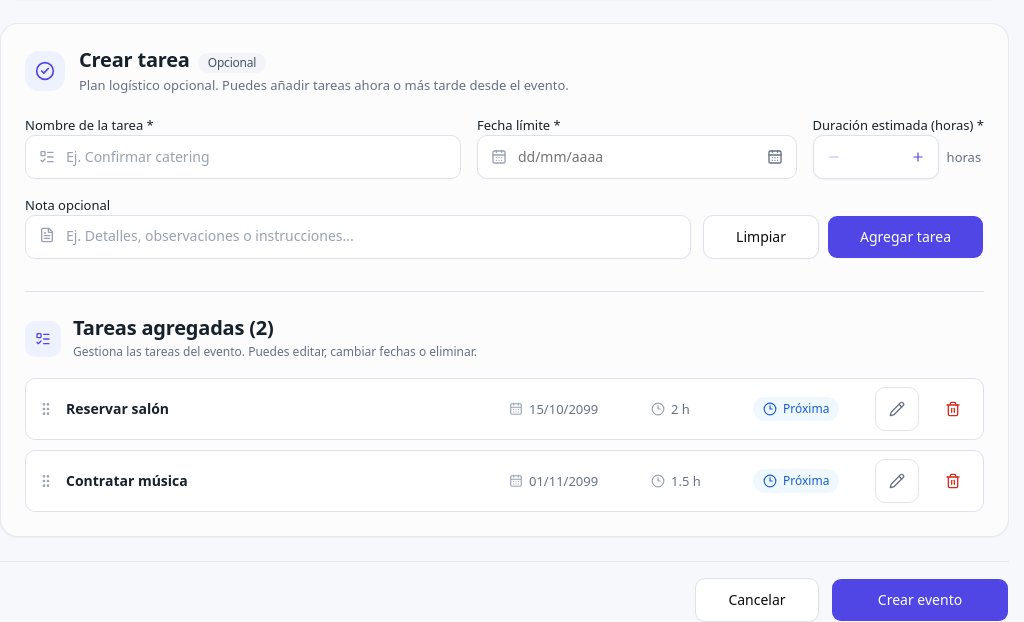
it: EventForm › edita, elimina y reinicia subtareas existentes
(page scrolled)
Click the button named "Editar Reservar salón".
click(897, 408)  # box [875,386,919,430]
(page scrolled)
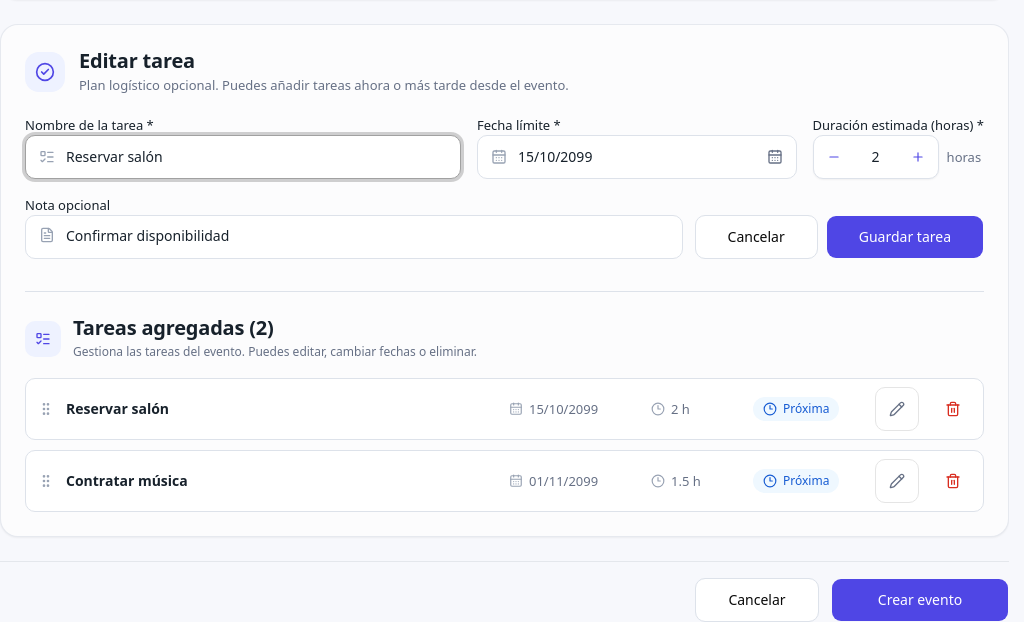
Check: the heading "Editar tarea" is shown, box [79,46,195,74]
Check: the field labelled "Nombre de la tarea *" holds "Reservar salón"
Replace the text in the field labelled "Nombre de la tarea *" with "Reservar finca" at x=243, y=156, box [25,134,461,178]
Click the button "Guardar tarea".
click(905, 236)  # box [826,214,984,258]
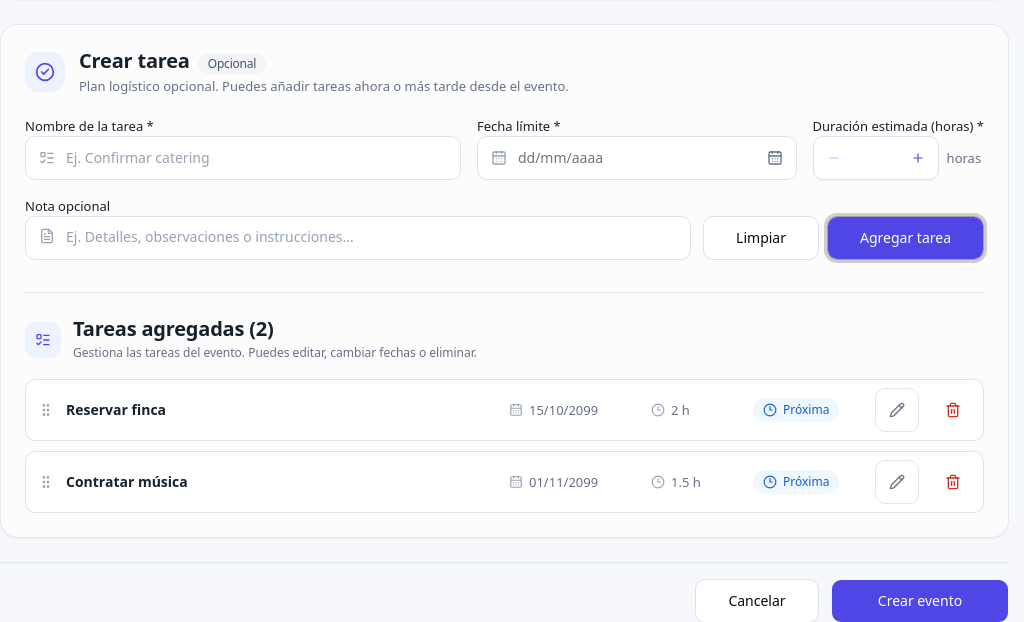
Check: the text "Reservar finca" is shown, box [66,400,166,418]
Check: the text "Reservar salón" is gone
Click the button named "Editar Reservar finca".
click(897, 410)  # box [875,388,919,432]
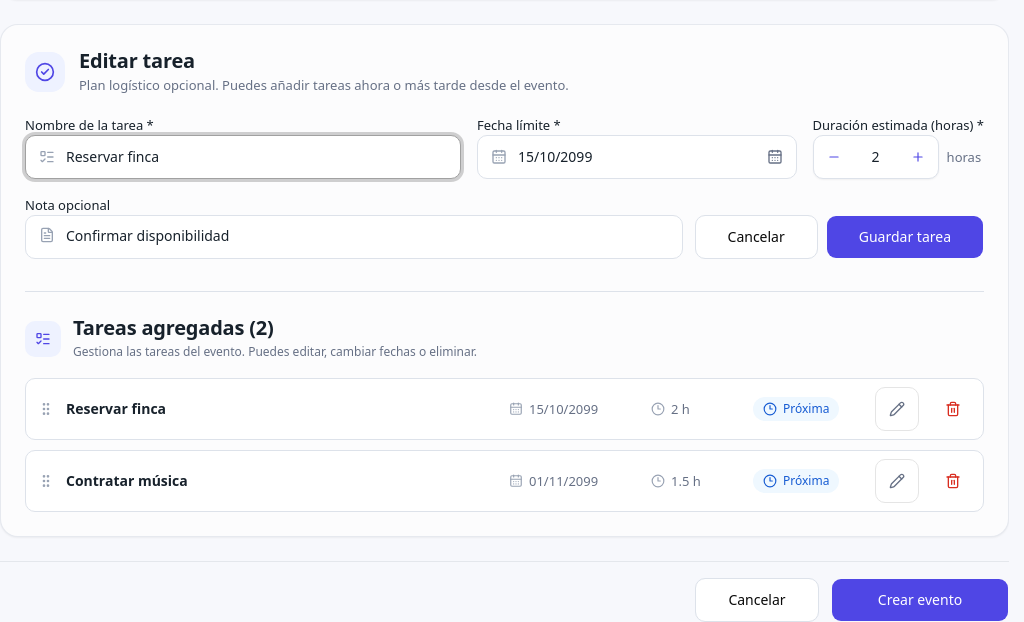
Click the button named "Eliminar Reservar finca".
click(953, 408)  # box [931,386,975,430]
(page scrolled)
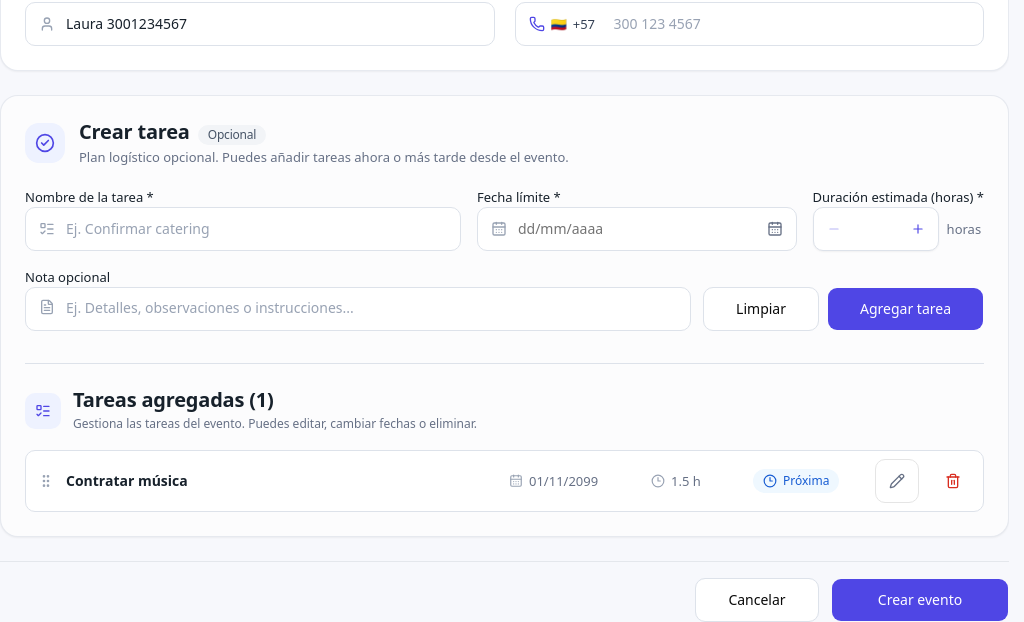
Check: the heading "Crear tarea Opcional" is shown, box [79,118,266,144]
Check: the heading "Tareas agregadas (1)" is shown, box [73,386,274,412]
Click the button "Limpiar".
click(761, 308)  # box [703,286,819,330]
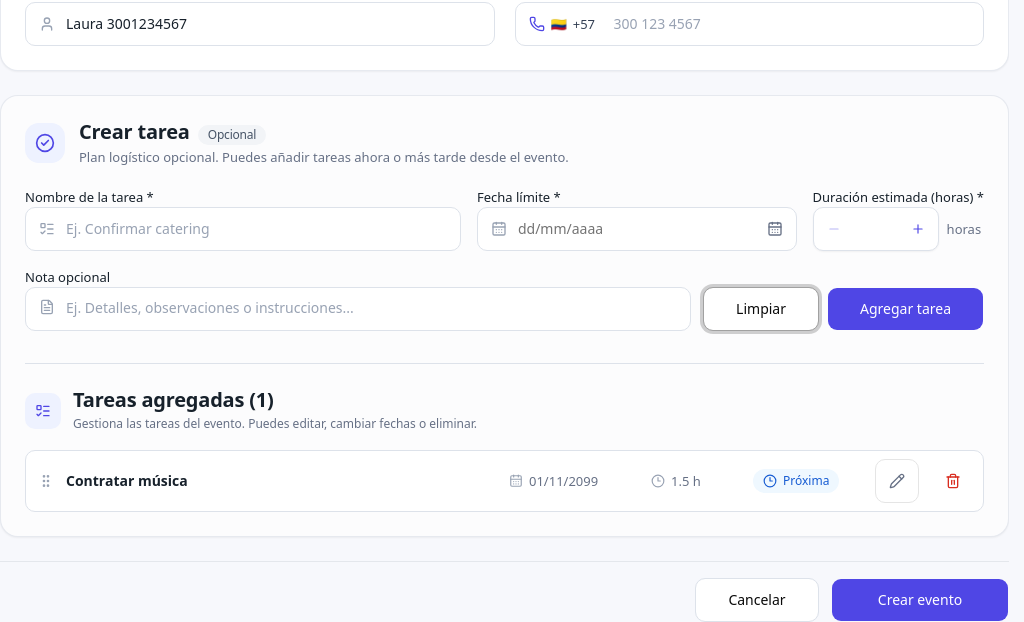
Click the button named "Eliminar Contratar música".
click(953, 480)  # box [931,458,975,502]
(page scrolled)
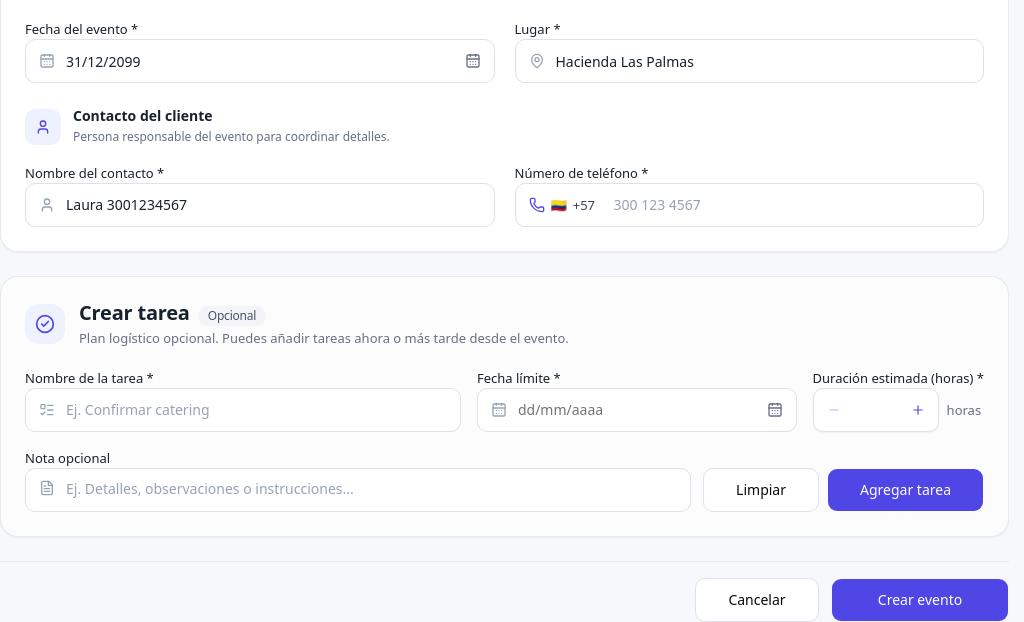
Check: the heading "Crear tarea Opcional" is shown, box [79,298,266,326]
Check: the heading "Tareas agregadas" is gone
